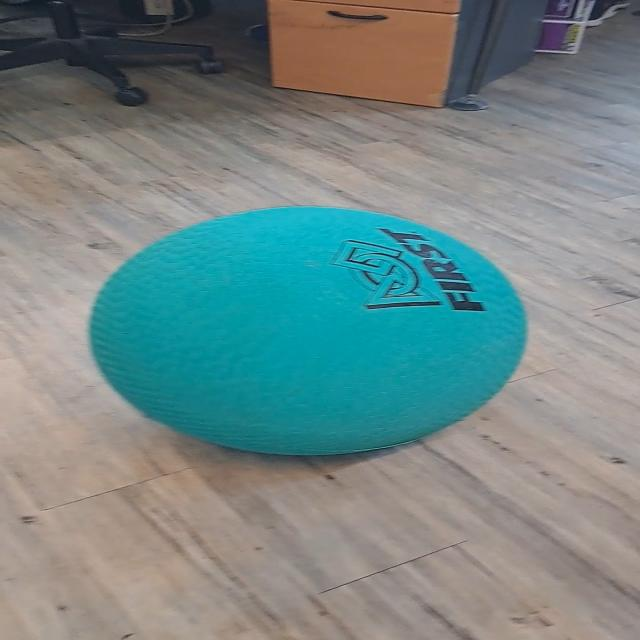ALGAE: (85, 204, 530, 457)
